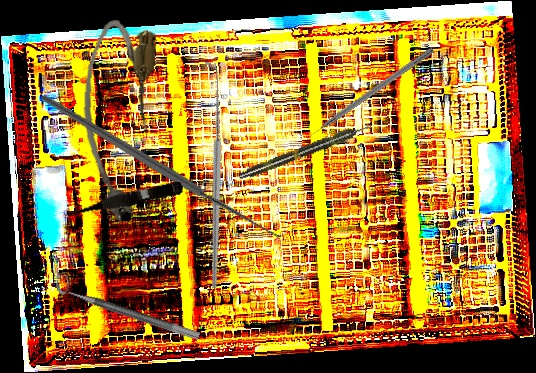Cannula: (75, 18, 158, 226)
Fixation Ring: (53, 270, 205, 342)
Handpiece: (237, 120, 373, 183)
Hook Surgical: (37, 20, 295, 308), (107, 60, 316, 291), (303, 45, 435, 141)
Micro Scissor: (57, 178, 185, 222)
